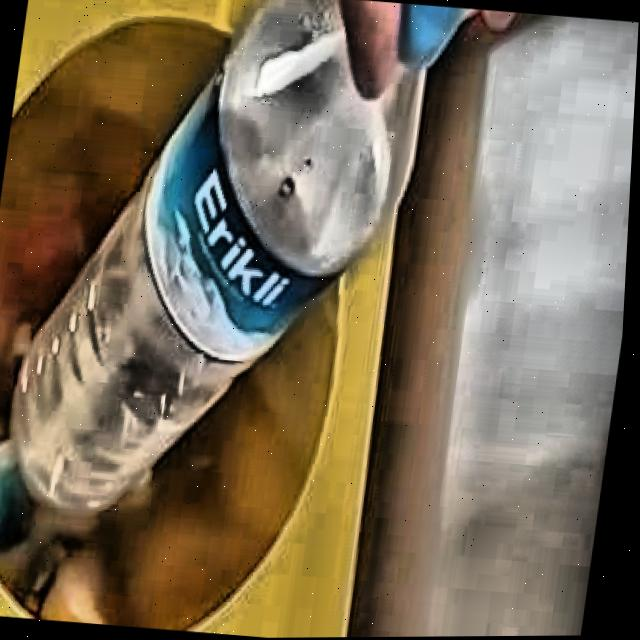plastic: (12, 0, 462, 513)
